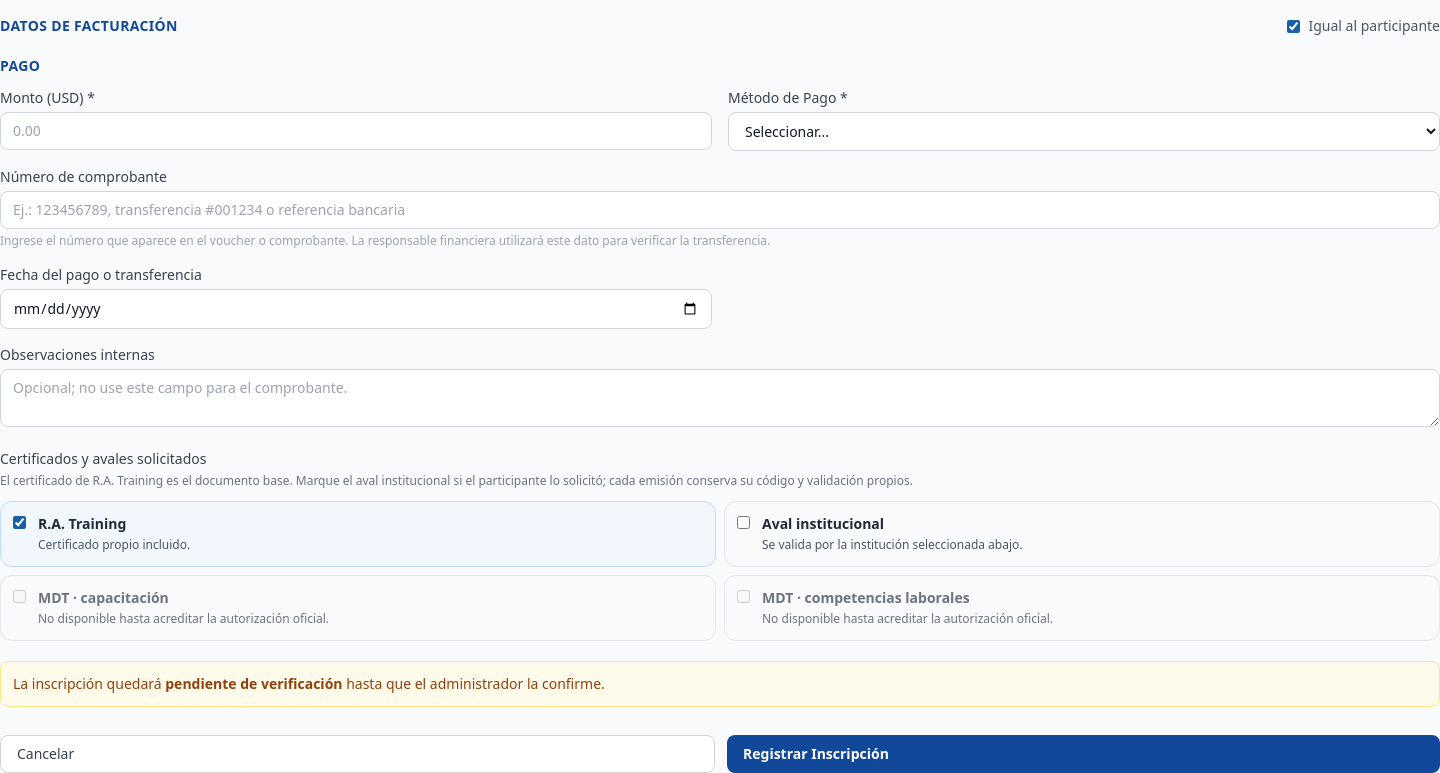
Test: InscripcionesForm — identificación textual › carga el convenio de esa institución y muestra la regla económica, no un monto editable
(page scrolled)
Click the checkbox labelled "Aval institucional". click: coordinates (744, 522)
box: [737, 516, 750, 529]
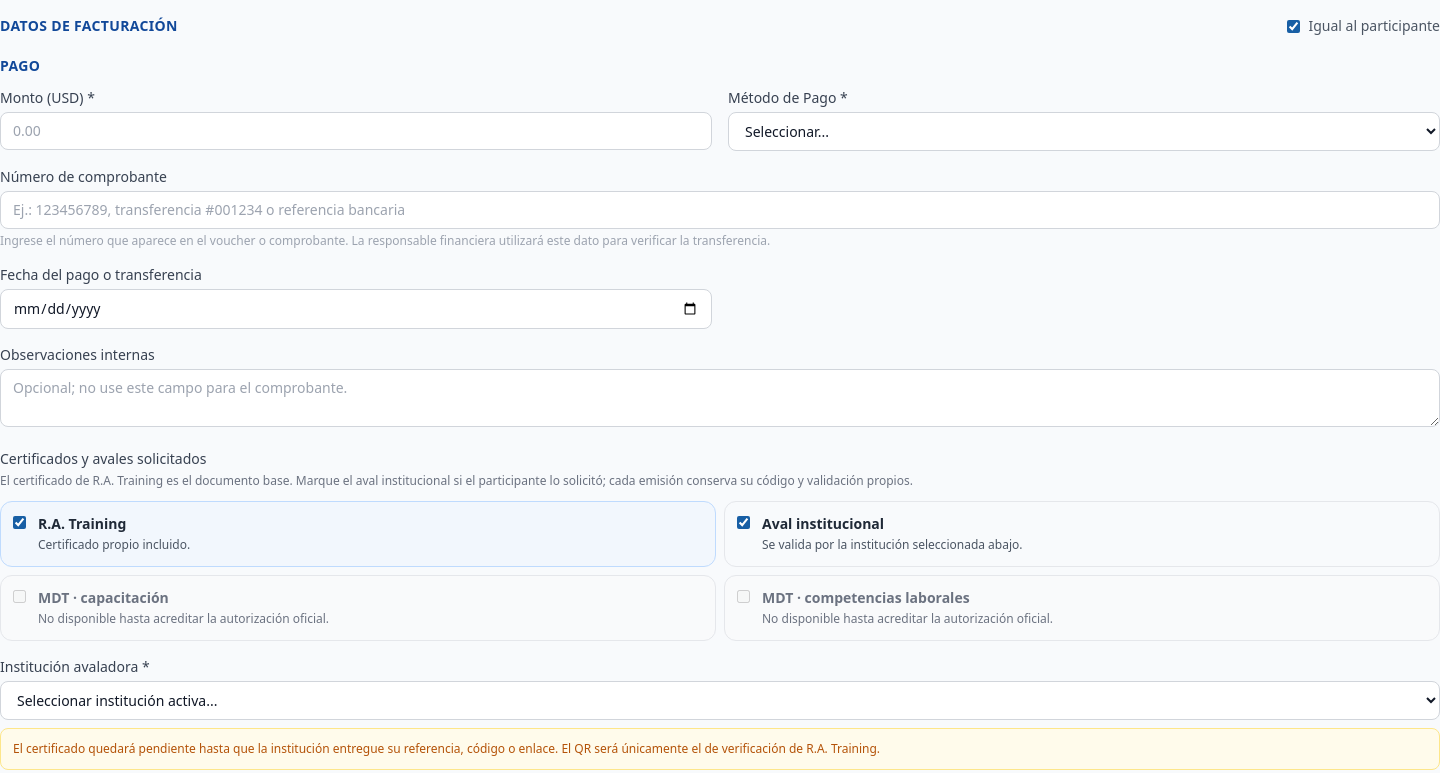
Select "Instituto Demo (ID)" in the dropdown labelled "Institución avaladora *". click: coordinates (720, 700)
box: [0, 681, 1439, 720]
(page scrolled)
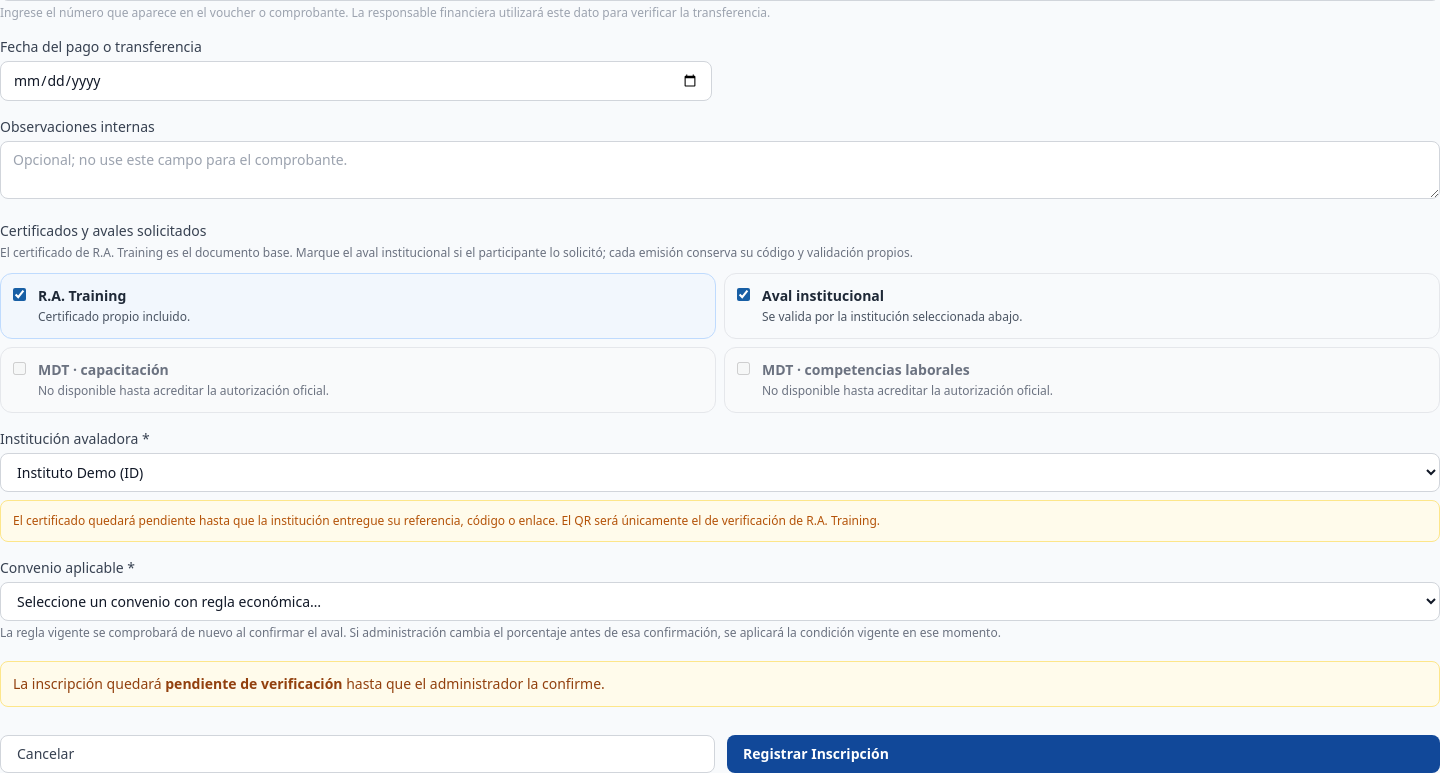
Check: the dropdown labelled "Convenio aplicable *" shows "Seleccione un convenio con regla económica…", box [0, 582, 1439, 621]
Check: the text "La regla vigente se comprobará de nuevo al confirmar" is shown, box [0, 624, 1001, 641]
